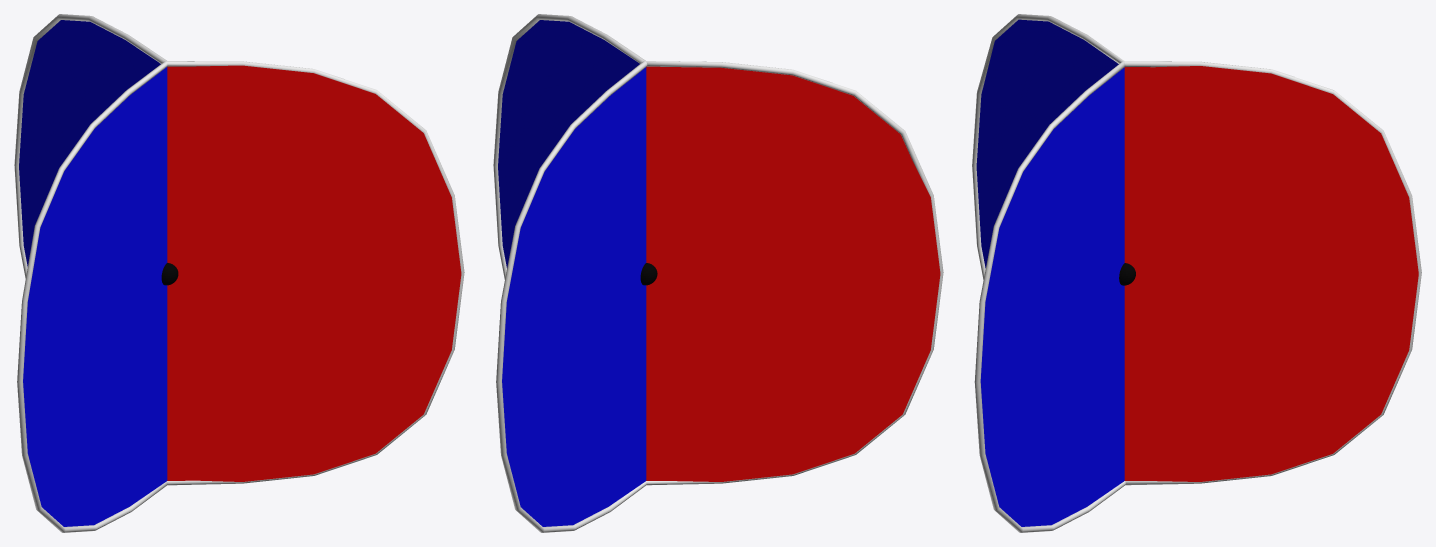
File: 3foldnbhd.glb
3 renders of one model, left to right at view 1: azimuth 30°, elevation 25°; view 2: azimuth 150°, elevation 25°; view 3: azimuth 270°, elevation 25°, orthographic.
Visible parts, largest first — view 1: Circle, Circle.001; view 2: Circle, Circle.001; view 3: Circle, Circle.001.
Boxes of the visible parts, box(x1,y1,x2,y2) form: Circle: box(19, 20, 461, 526); Circle.001: box(14, 14, 464, 532); Circle: box(498, 20, 940, 526); Circle.001: box(493, 14, 943, 532); Circle: box(976, 19, 1418, 526); Circle.001: box(972, 14, 1421, 532).
Size of the model in its own units: 1.68 by 1.52 by 1.46.
